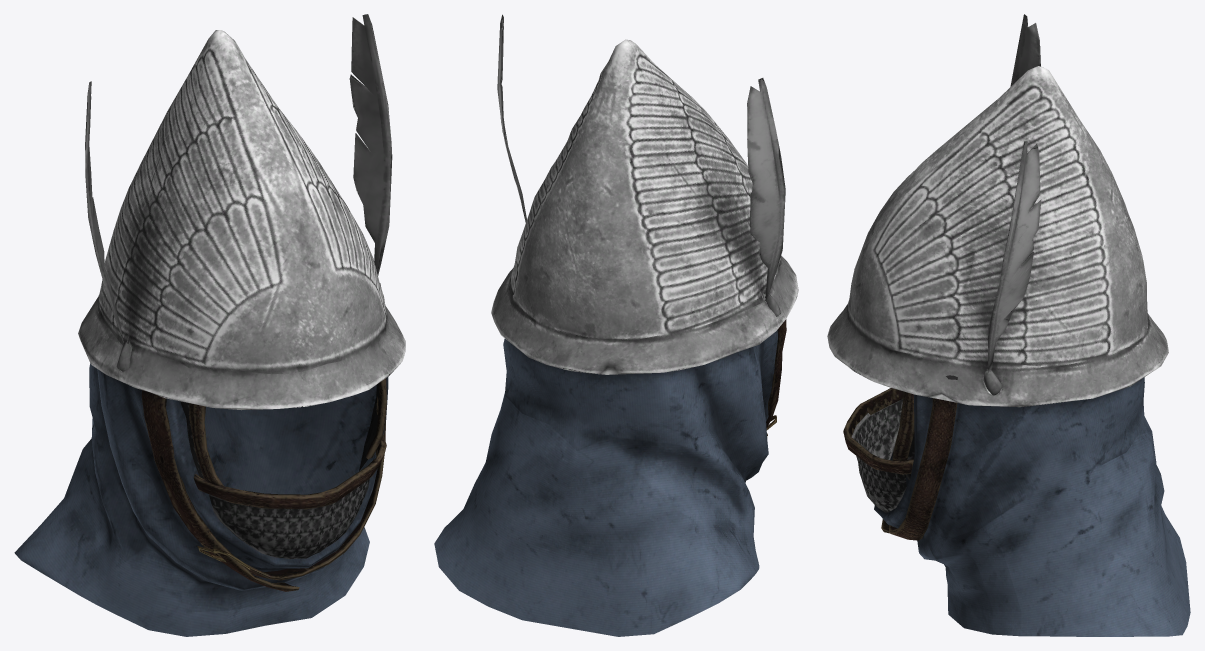
Rendered from lrd_marines_gondor_2_helmet.fbx.
3 renders of one model, left to right at view 1: azimuth 30°, elevation 25°; view 2: azimuth 150°, elevation 25°; view 3: azimuth 270°, elevation 25°, orthographic. The views are drawn at different scales.
Visible parts, largest first — view 1: lrd_marines_gondor_2_helmet; view 2: lrd_marines_gondor_2_helmet; view 3: lrd_marines_gondor_2_helmet.
Boxes of the visible parts, x1,y1,x2,y2 form: lrd_marines_gondor_2_helmet: [14, 14, 405, 636]; lrd_marines_gondor_2_helmet: [434, 14, 798, 636]; lrd_marines_gondor_2_helmet: [827, 14, 1190, 636].
Size of the model in its own units: 0.2636 by 0.278 by 0.4503.
Materials: 1 (1 with a texture image).
